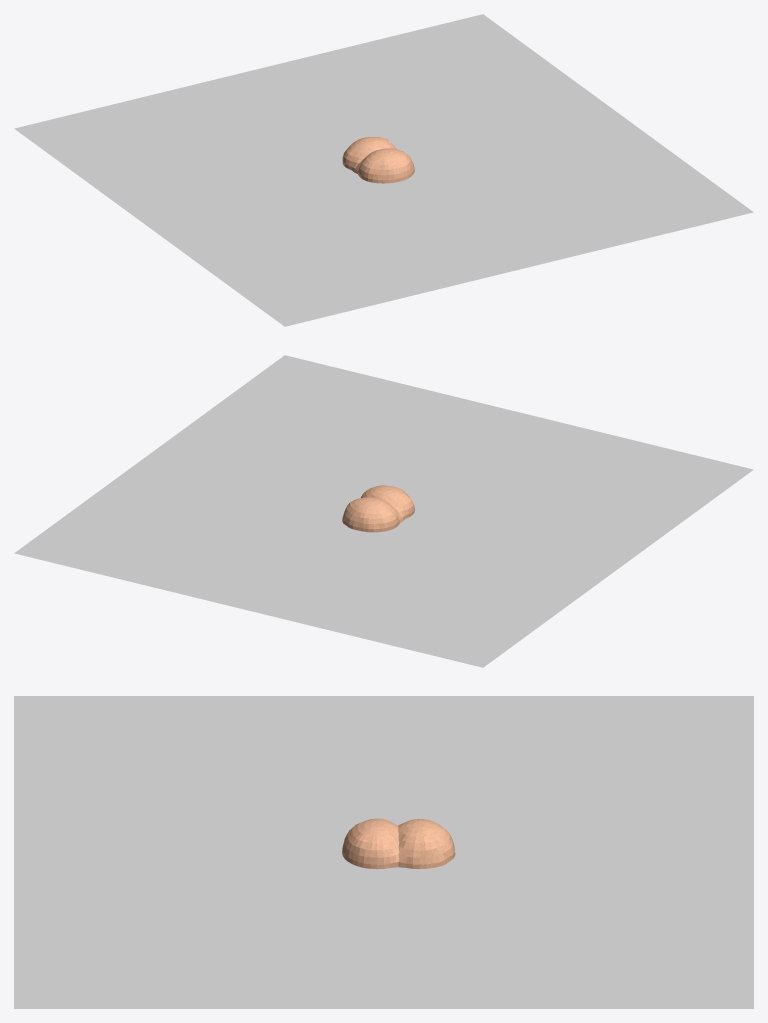
File: NewButtCheekModel.fbx
The picture shows the model from 3 angles, top to bottom: view 1: azimuth 30°, elevation 25°; view 2: azimuth 150°, elevation 25°; view 3: azimuth 270°, elevation 25°; orthographic projection. The views are drawn at different scales.
Visible parts, largest first — view 1: Plane, Sphere.001; view 2: Plane, Sphere.001; view 3: Plane, Sphere.001.
Boxes of the visible parts, bbox=[...] form: Plane: bbox=[14, 14, 753, 326]; Sphere.001: bbox=[342, 137, 414, 183]; Plane: bbox=[14, 355, 753, 667]; Sphere.001: bbox=[342, 485, 414, 532]; Plane: bbox=[14, 696, 753, 1008]; Sphere.001: bbox=[342, 818, 455, 869].
Size of the model in its own units: 3000 by 280 by 3000.
Materials: 1 (1 with a texture image).
